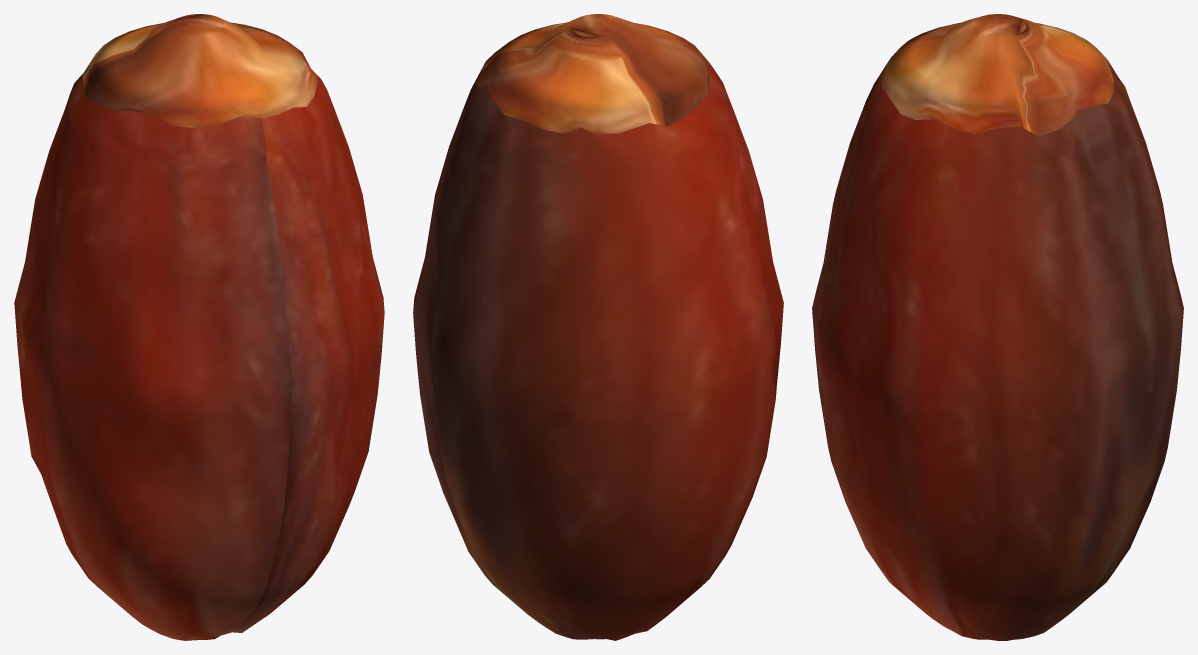
File: Kurma.fbx
3 views of the same model, side by side, from view 1: azimuth 30°, elevation 25°; view 2: azimuth 150°, elevation 25°; view 3: azimuth 270°, elevation 25° (orthographic).
Parts seen in each view (by area): view 1: kurma; view 2: kurma; view 3: kurma.
Part boxes in pixels (box(x1,y1,x2,y2)): kurma: box(14, 14, 384, 640); kurma: box(413, 14, 783, 640); kurma: box(812, 14, 1183, 640).
Bounding box in the file's own units: 93.52 × 170 × 93.52.
